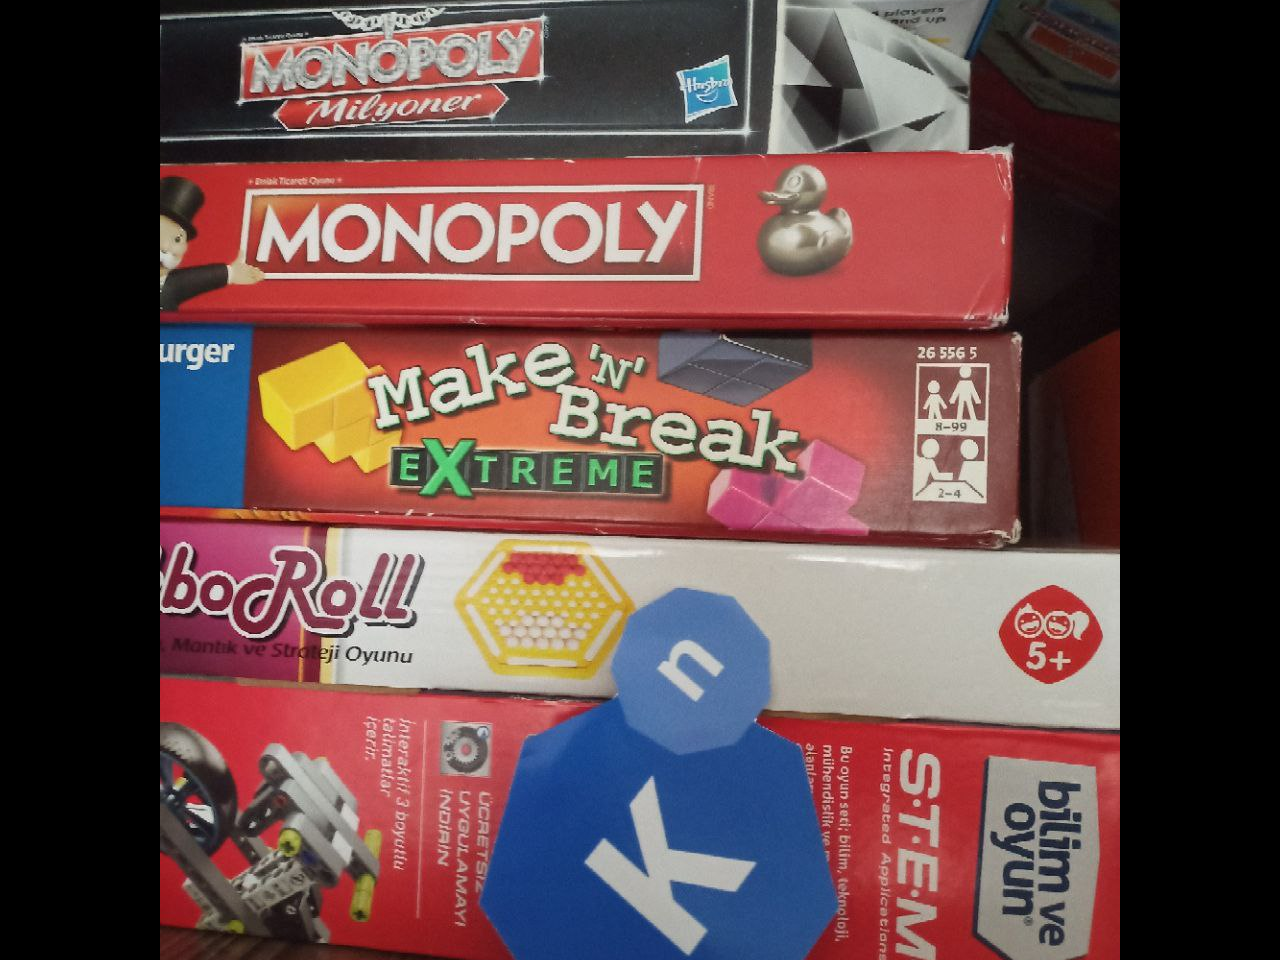knative: (474, 587, 838, 960)
